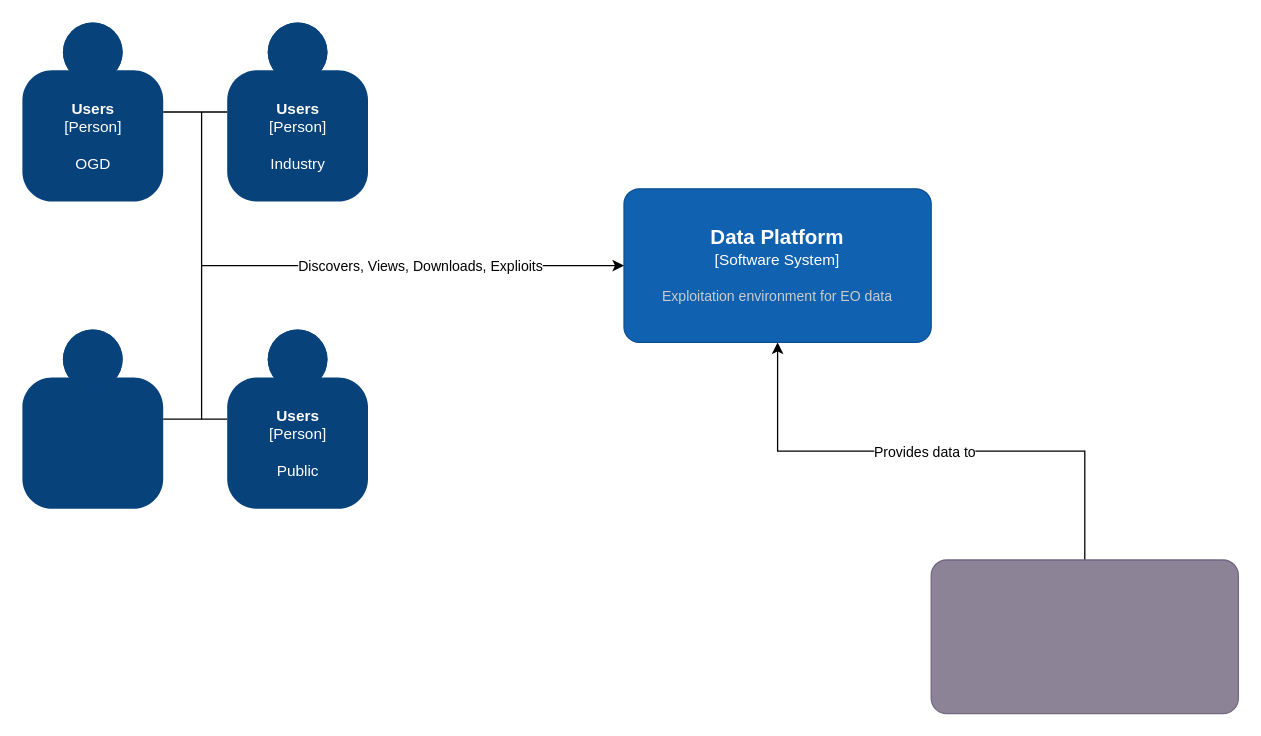
Image size: 1261x736. Some labels were removed from this diagram. Here are the shapes that lost their labels. From the top down, the centre of each, then its label:
[92,418]: Users [Person] Academia
[1084,636]: Data Production [Software System] Upstream business data production
